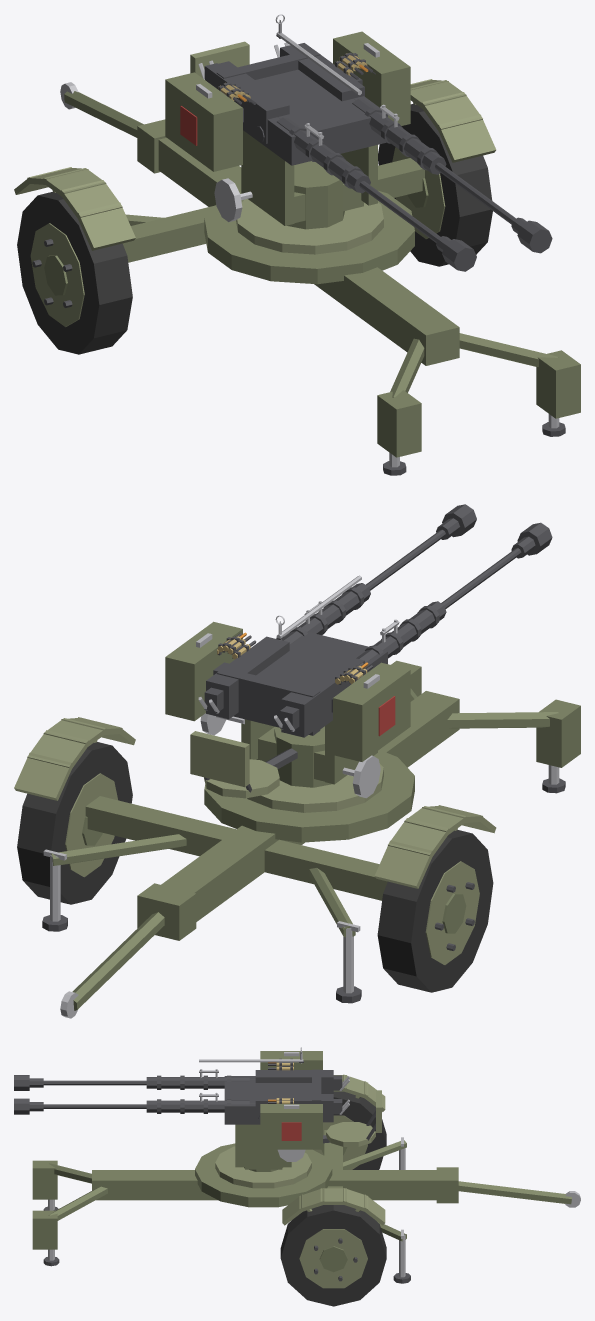
The model's file is zpu_aa_gun.glb.
The picture shows the model from 3 angles, top to bottom: view 1: azimuth 30°, elevation 25°; view 2: azimuth 150°, elevation 25°; view 3: azimuth 270°, elevation 25°; orthographic projection. The views are drawn at different scales.
Parts seen in each view (by area): view 1: zpu_aa_gun-col, cradle, upper; view 2: zpu_aa_gun-col, cradle, upper; view 3: zpu_aa_gun-col, cradle, upper, sight_rail.
Boxes of the visible parts, x1,y1,x2,y2 form: zpu_aa_gun-col: (14, 79, 580, 475); cradle: (165, 31, 552, 271); upper: (190, 41, 383, 254); zpu_aa_gun-col: (14, 660, 580, 1018); cradle: (165, 504, 552, 761); upper: (190, 713, 383, 812); zpu_aa_gun-col: (32, 1074, 580, 1306); cradle: (14, 1051, 349, 1149); upper: (215, 1090, 381, 1188); sight_rail: (199, 1059, 303, 1062).
Size of the model in its own units: 1.95 by 1.39 by 3.63.
